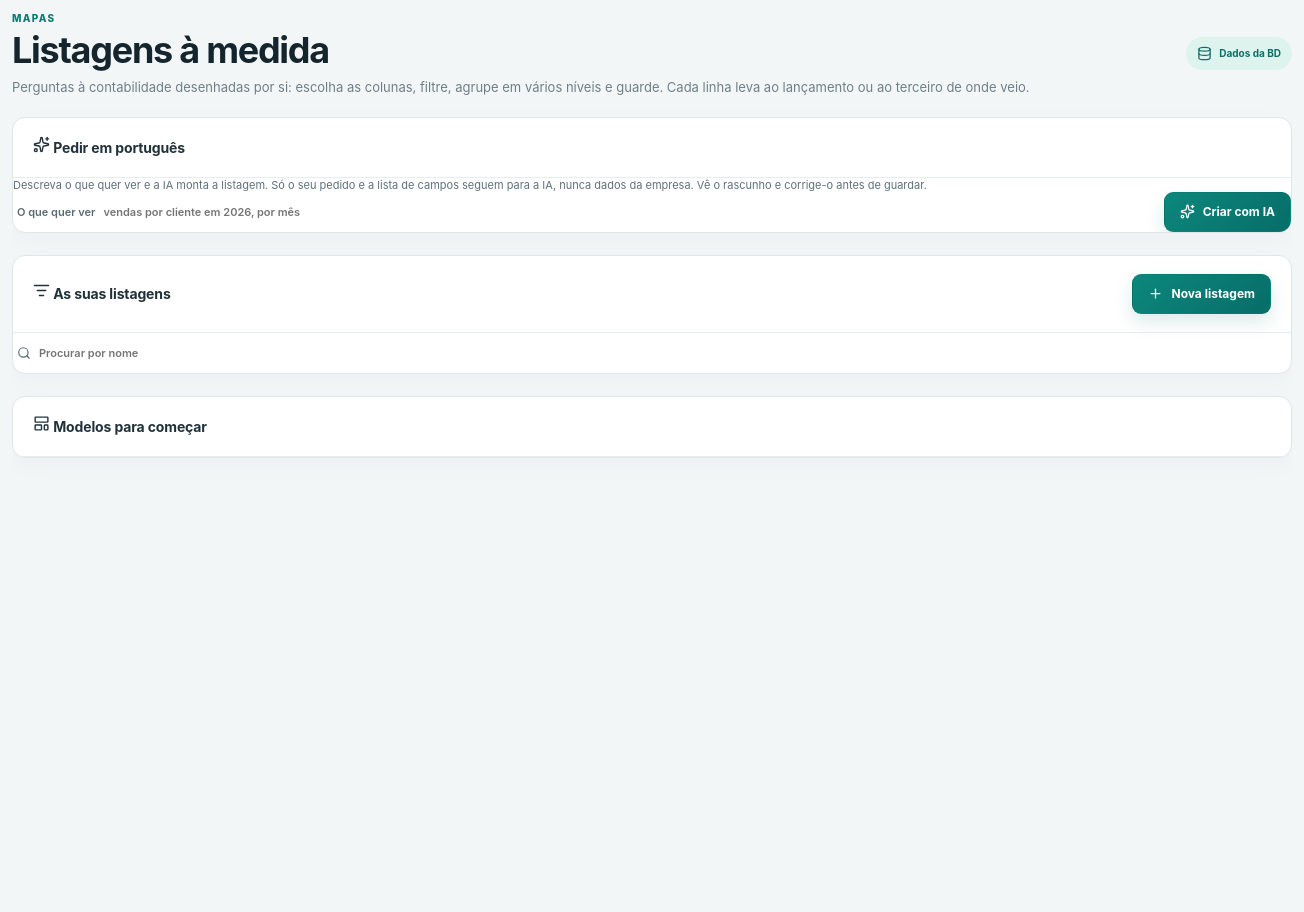
listagens à medida › mostra a recusa quando a IA está desligada
Type "desligada" into the field labelled "O que quer ver" at (272, 212), box [102, 204, 442, 220]
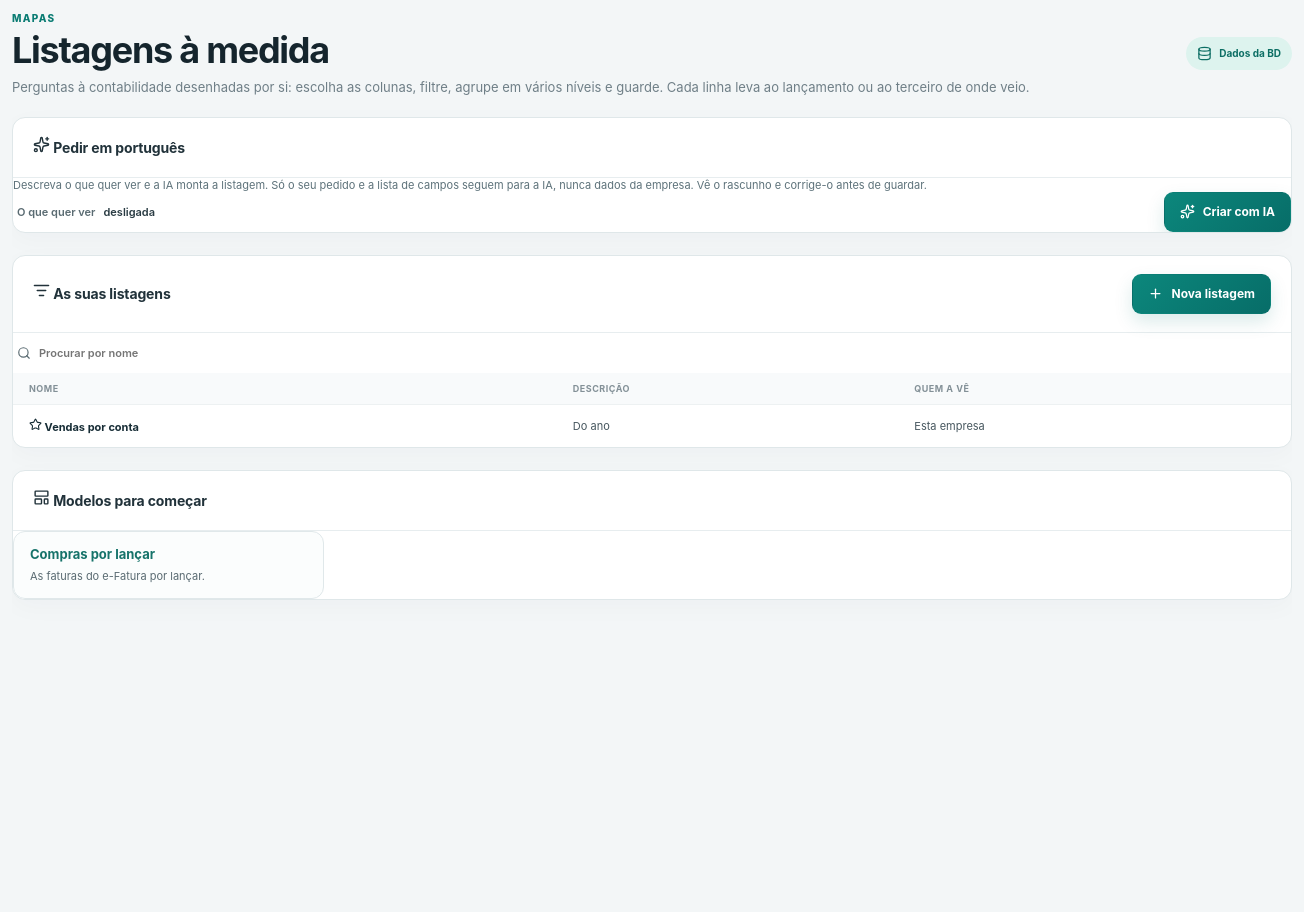
Click the button "Criar com IA" at (1227, 212), box [1164, 192, 1291, 232]
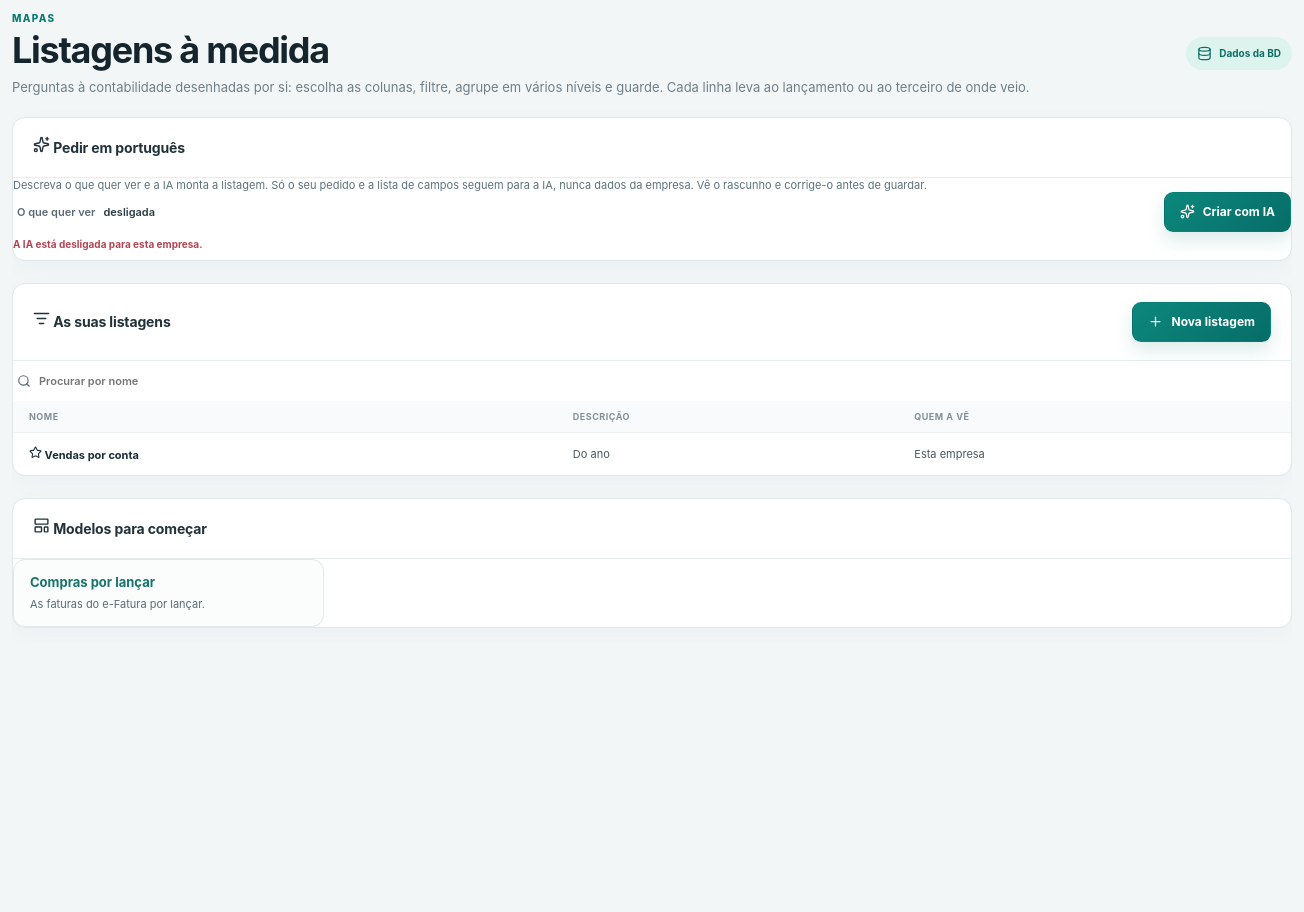
Check: the text "A IA está desligada para esta empresa." is shown, box [13, 238, 202, 250]
